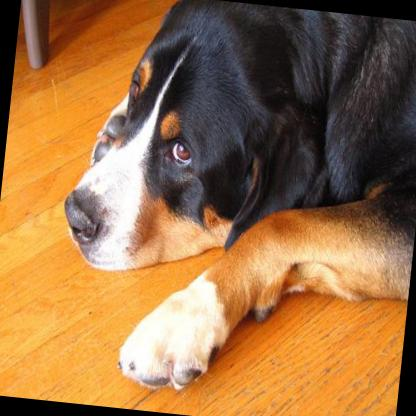Greater_Swiss_Mountain_dog: (44, 0, 416, 413)
